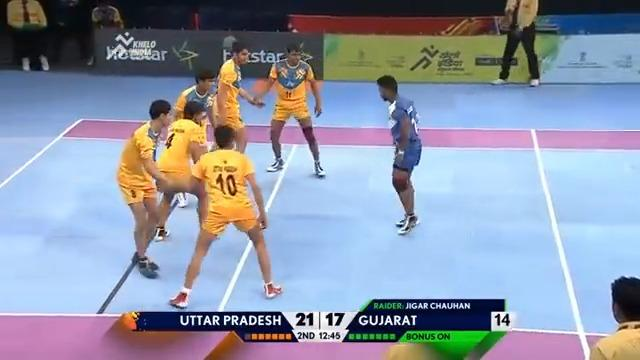Player: (168, 124, 283, 308), (115, 98, 175, 278), (250, 41, 326, 177), (153, 99, 209, 242), (210, 41, 265, 153), (171, 68, 218, 149)
Raider: (375, 74, 422, 234)
referee: (490, 0, 540, 86), (588, 275, 639, 359), (48, 0, 93, 67), (86, 0, 124, 66), (90, 0, 123, 29)
